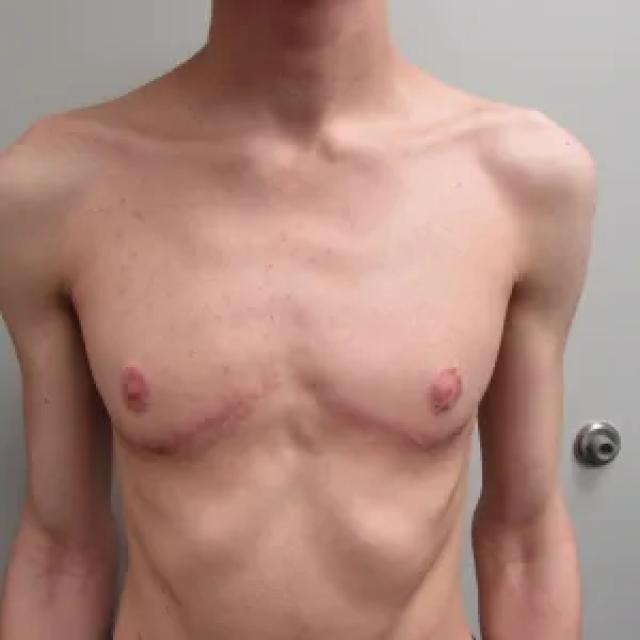Seno herido: (291, 291, 506, 473), (71, 291, 272, 473)
